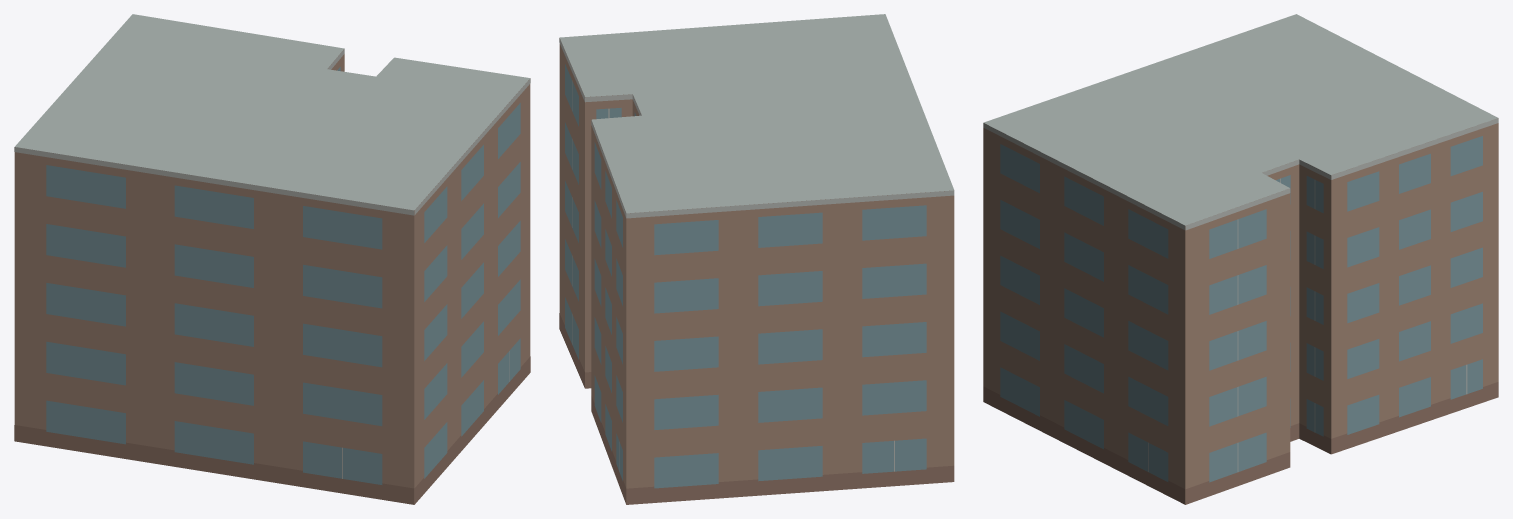
File: survey-upis-32740791.glb
The picture shows the model from 3 angles, left to right: view 1: azimuth 30°, elevation 25°; view 2: azimuth 150°, elevation 25°; view 3: azimuth 270°, elevation 25°; orthographic projection. The views are drawn at different scales.
Parts seen in each view (by area): view 1: survey-upis-32740791.tmp; view 2: survey-upis-32740791.tmp; view 3: survey-upis-32740791.tmp.
Part boxes in pixels (left/top/right/bottom): survey-upis-32740791.tmp: left=14, top=14, right=530, bottom=504; survey-upis-32740791.tmp: left=559, top=14, right=954, bottom=504; survey-upis-32740791.tmp: left=983, top=14, right=1498, bottom=504.
Size of the model in its own units: 22.61 by 13.9 by 23.26.
